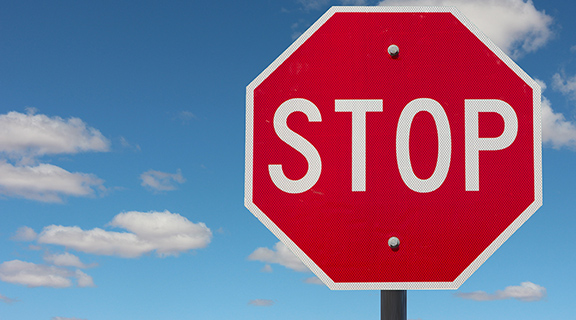stop: (240, 5, 545, 292)
